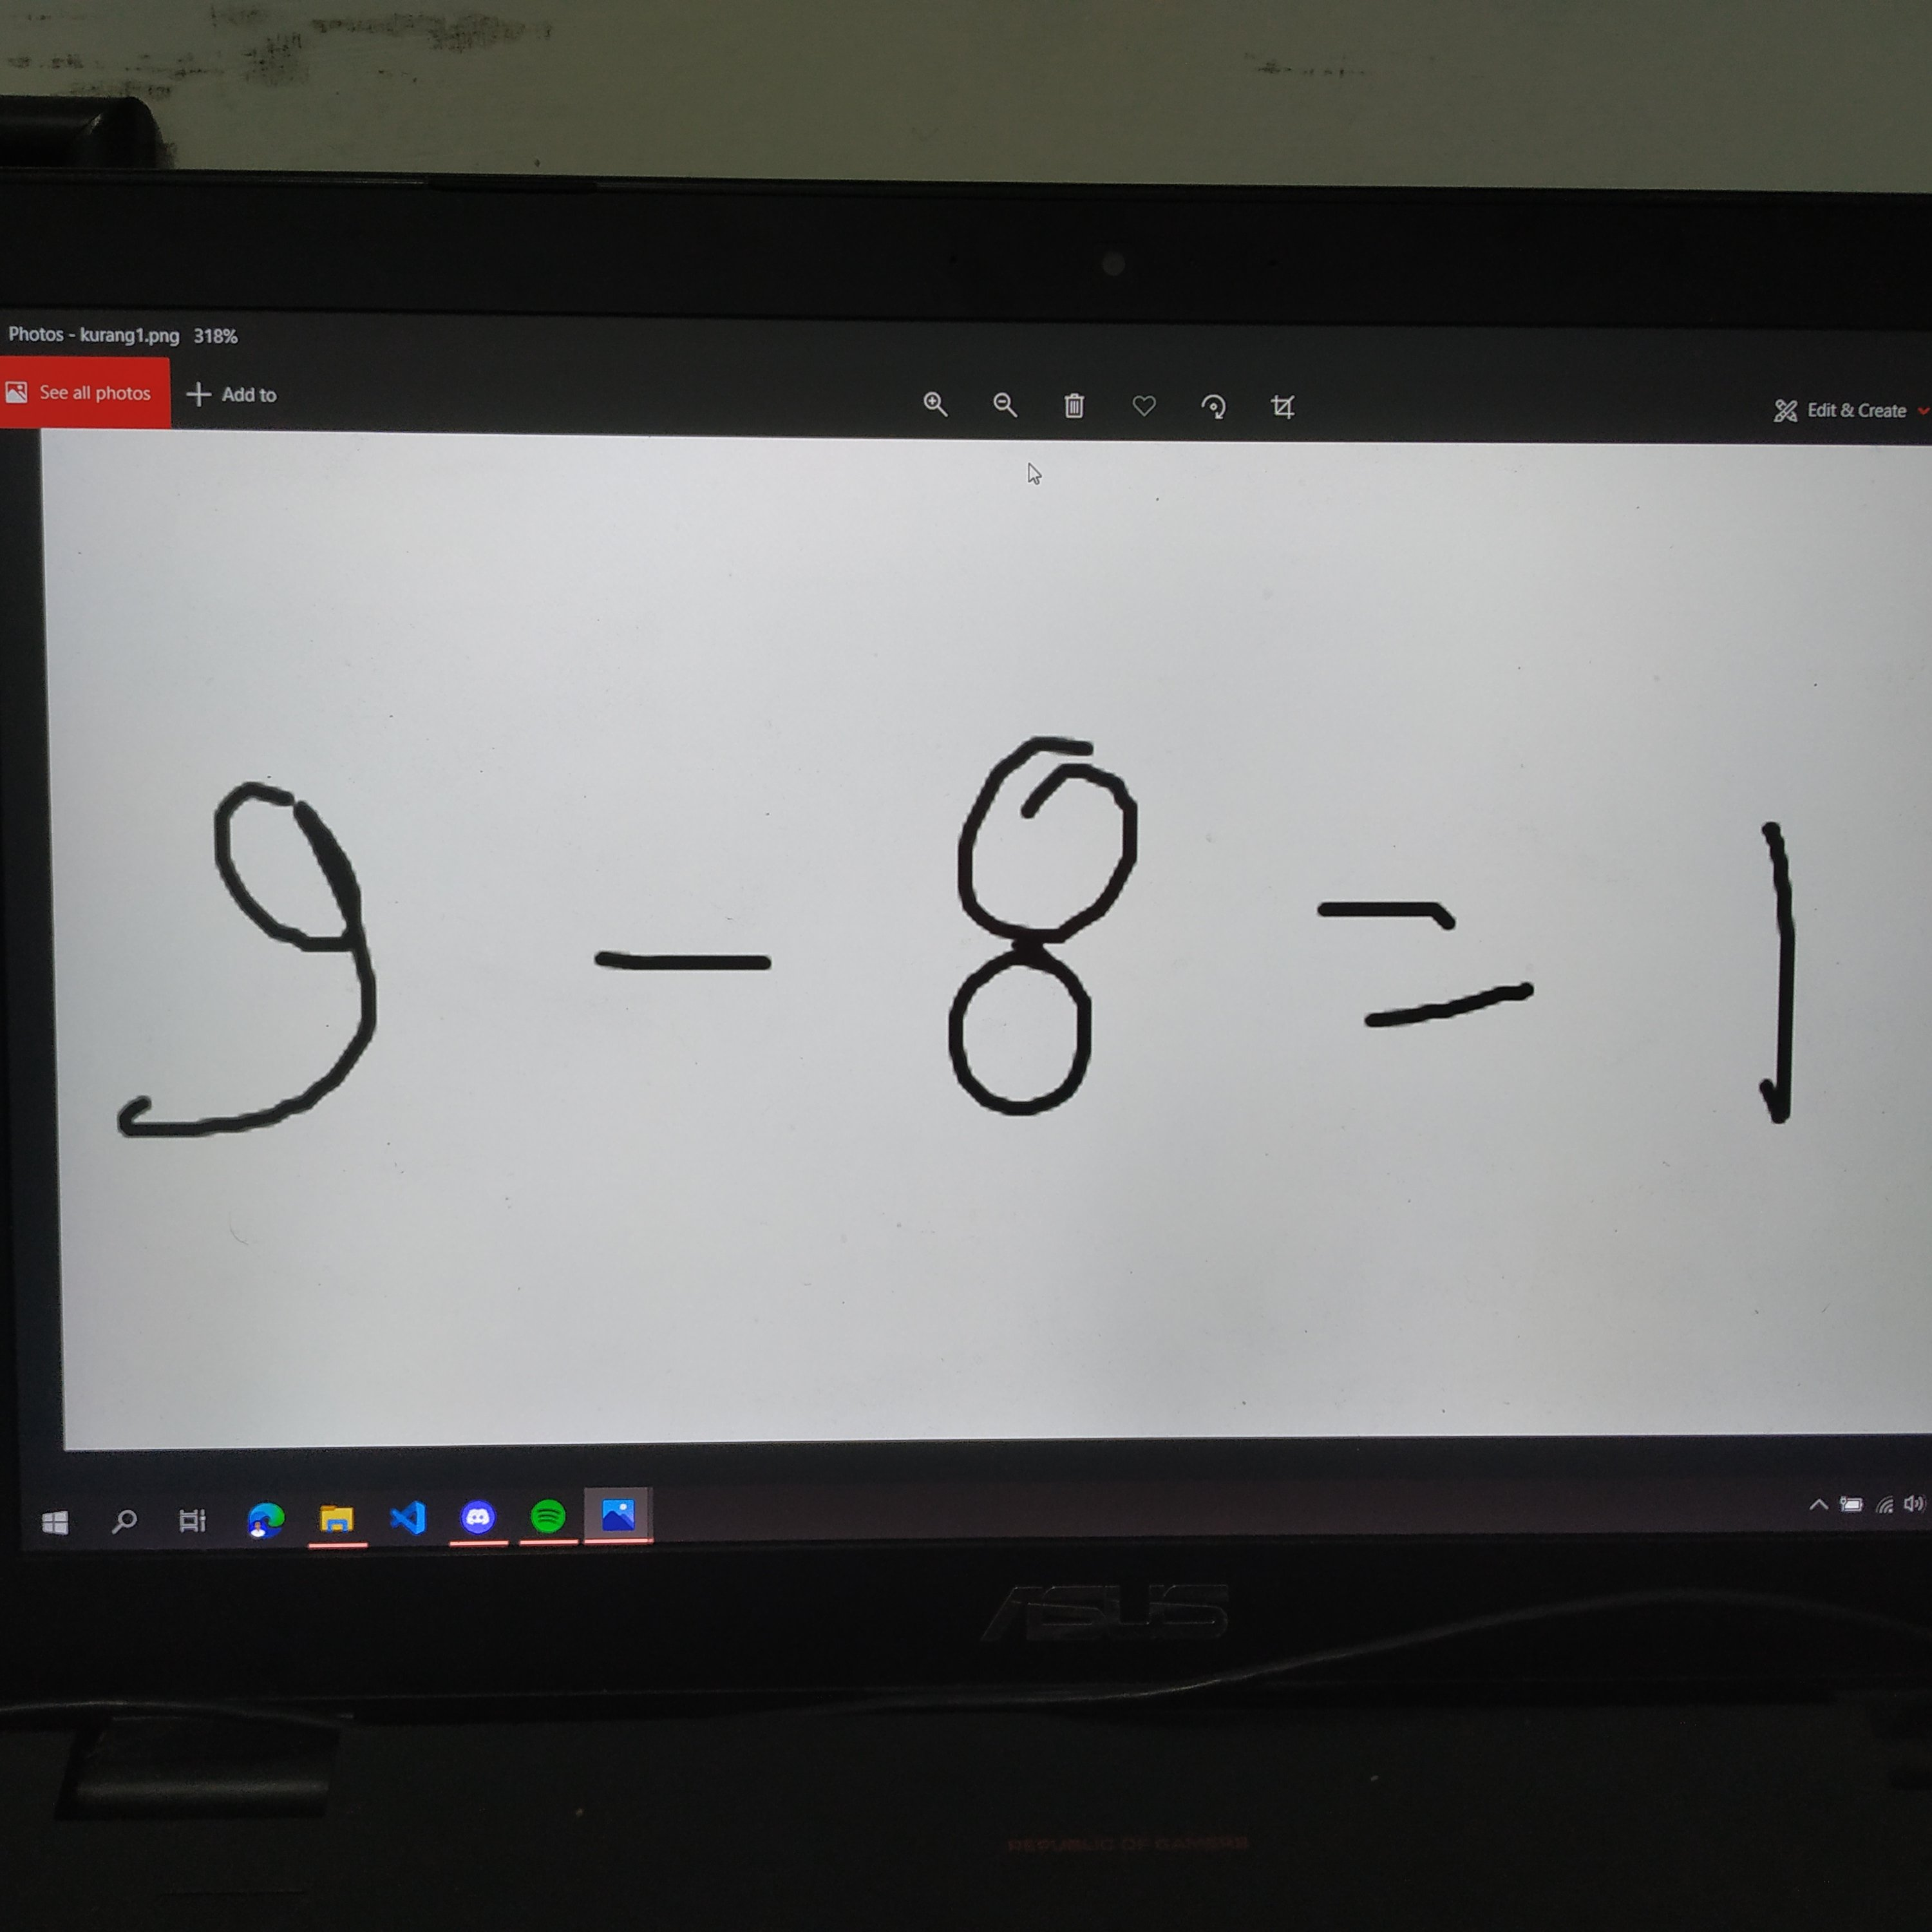equal: (1286, 866, 1567, 1045)
min: (567, 916, 815, 1005)
num1: (1721, 791, 1824, 1159)
num8: (913, 717, 1168, 1142)
num9: (82, 754, 435, 1157)
